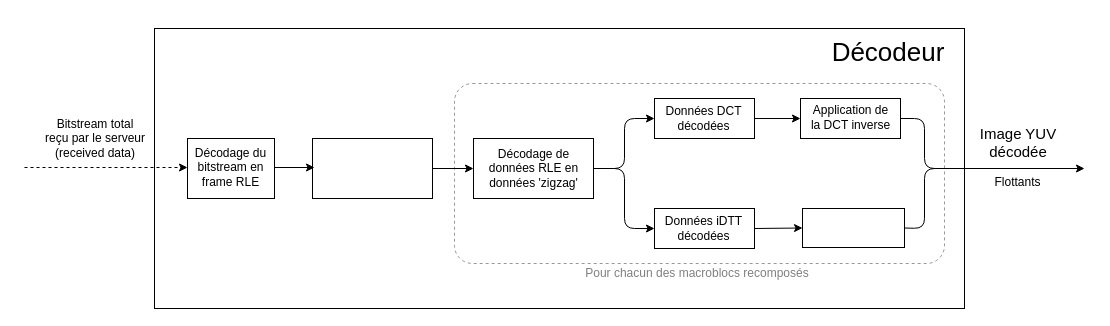
Some shapes in this 1110 by 326 pixel diagram are drawn without their labels. Here are the shapes that lost their labels. From the top down, the box of each, then its label:
(312, 138, 432, 198): Recomposition en macroblocs (16x16)
(802, 208, 904, 248): Application de la iDTT inverse
